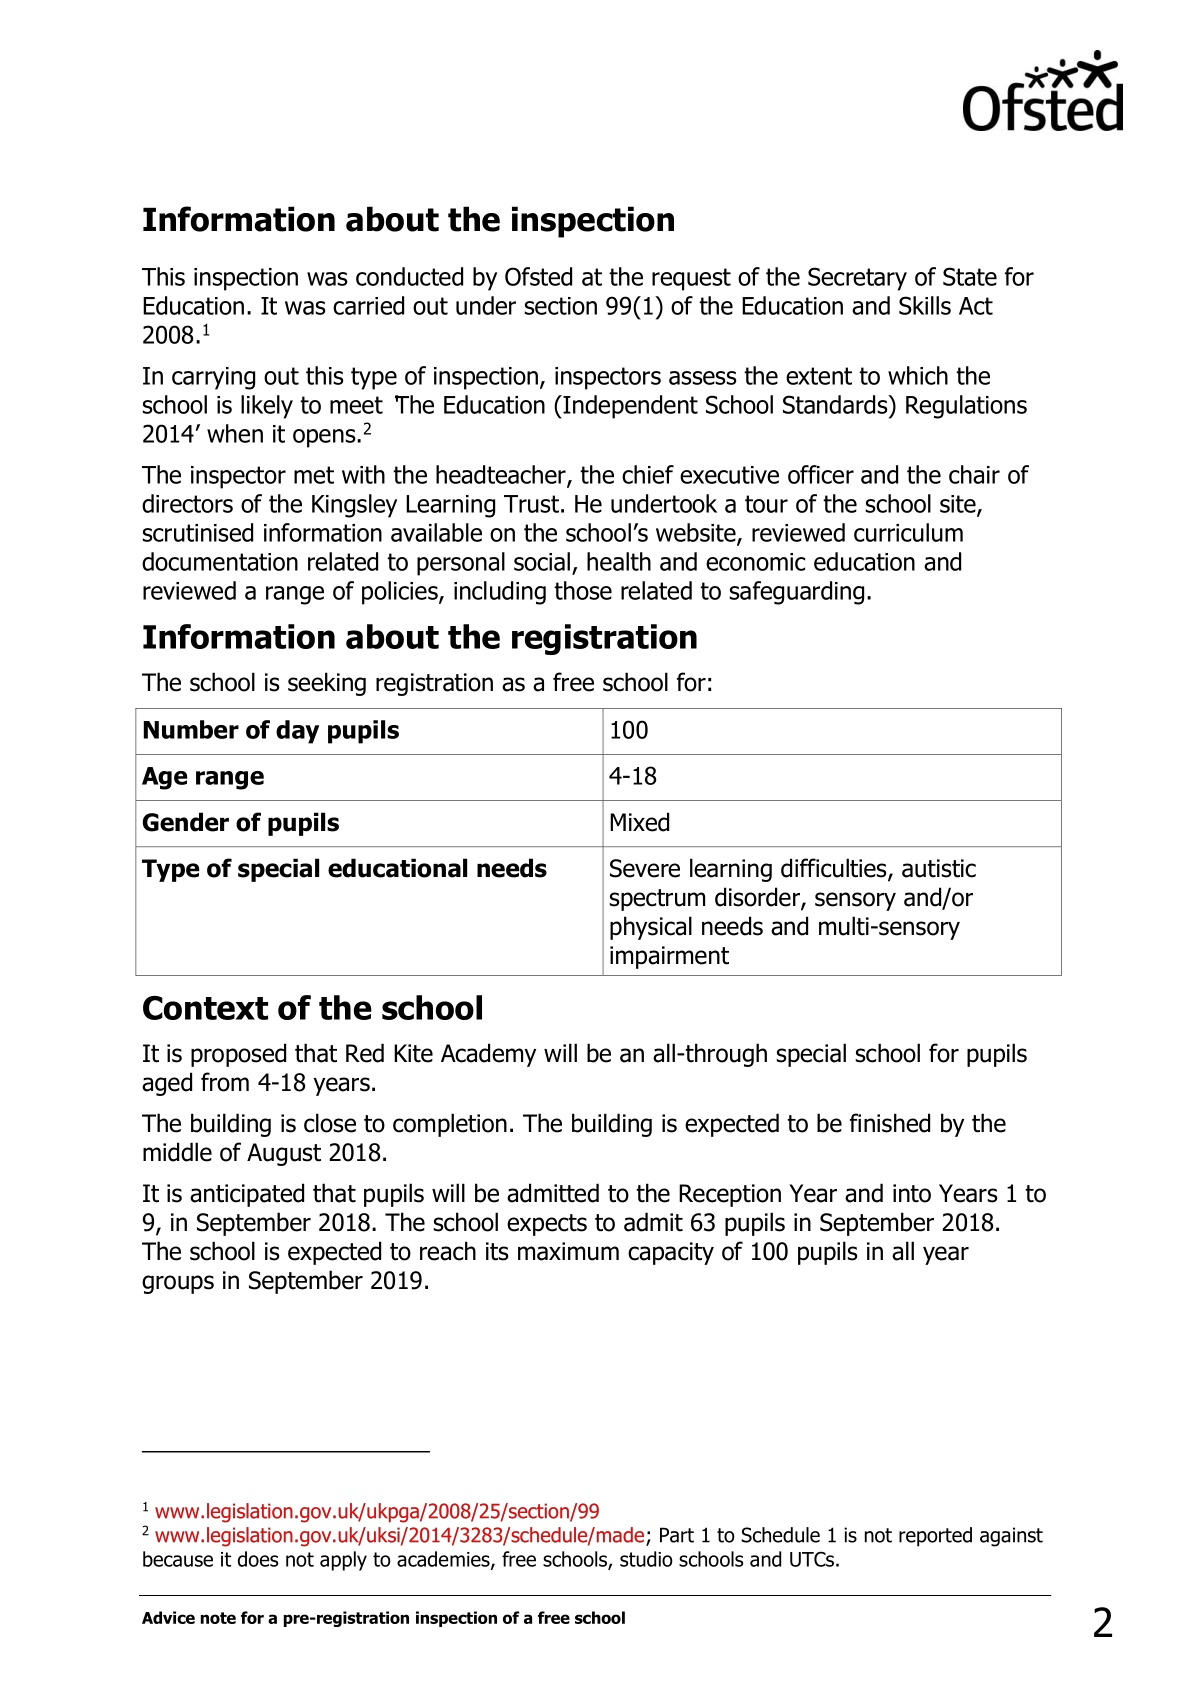full_lined: (134, 708, 1062, 977)
